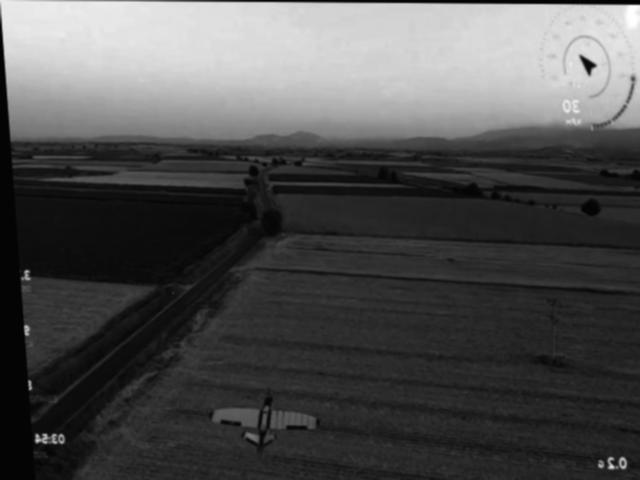hedef: (197, 390, 316, 459)
